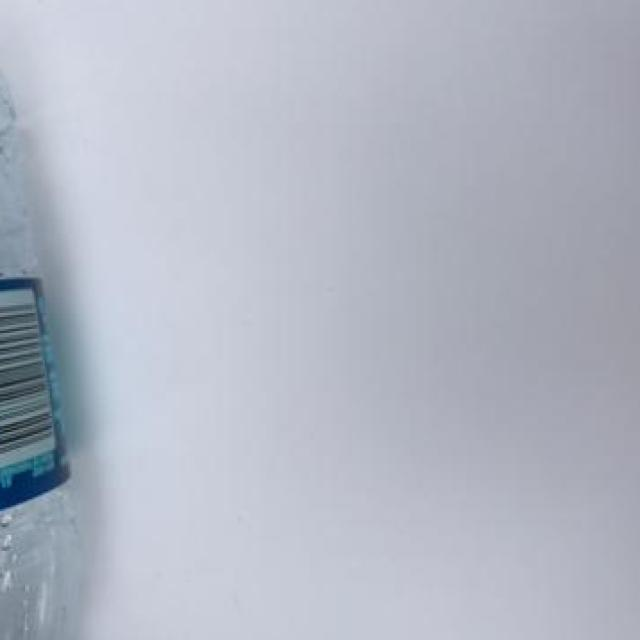organic: (2, 67, 107, 634)
